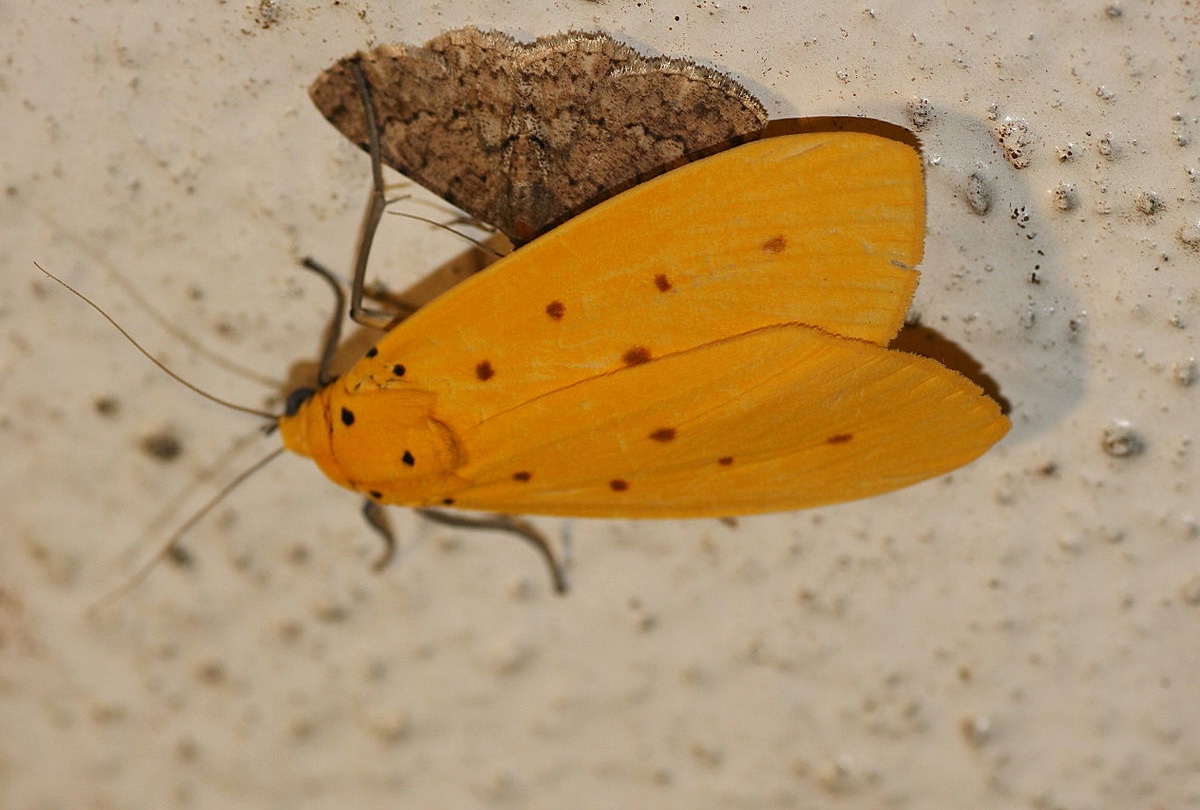Agape chloropyga: (26, 40, 1026, 616)
moth: (24, 38, 1024, 614)
